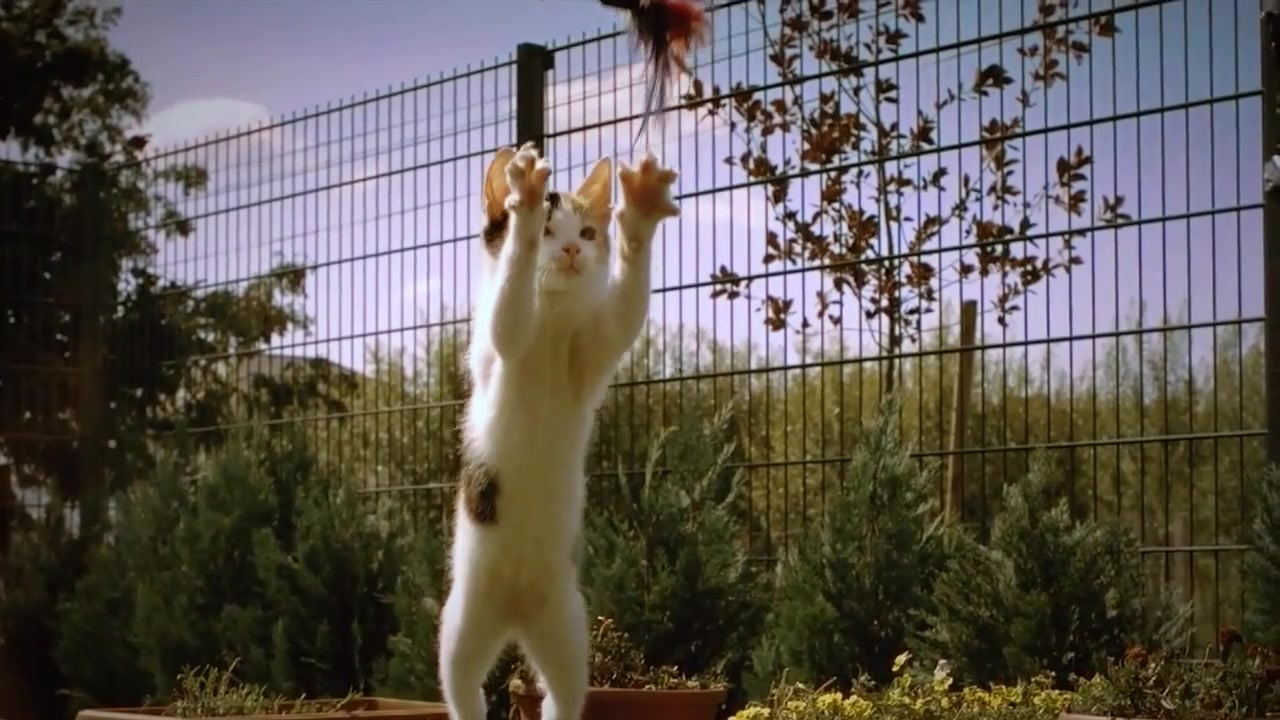cat: (437, 146, 684, 720)
